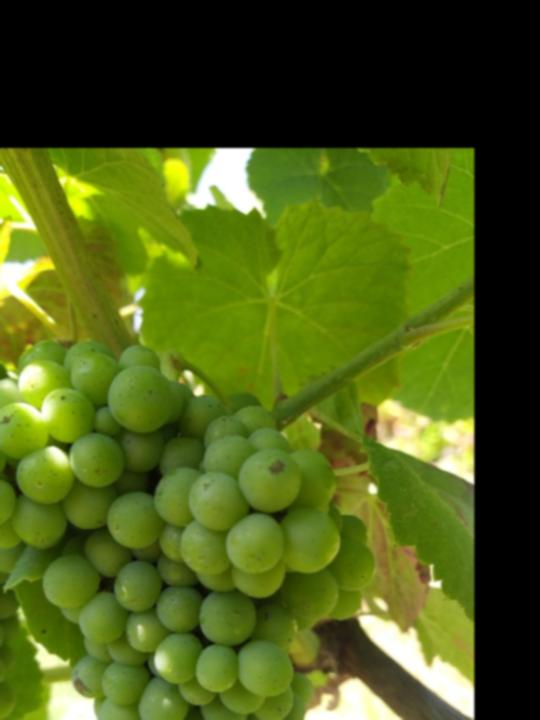grape: (0, 336, 377, 720)
